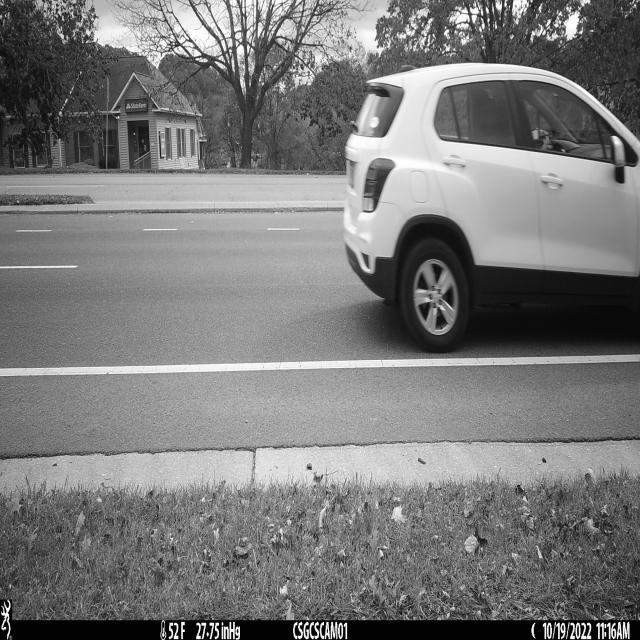SUV: (342, 63, 640, 355)
